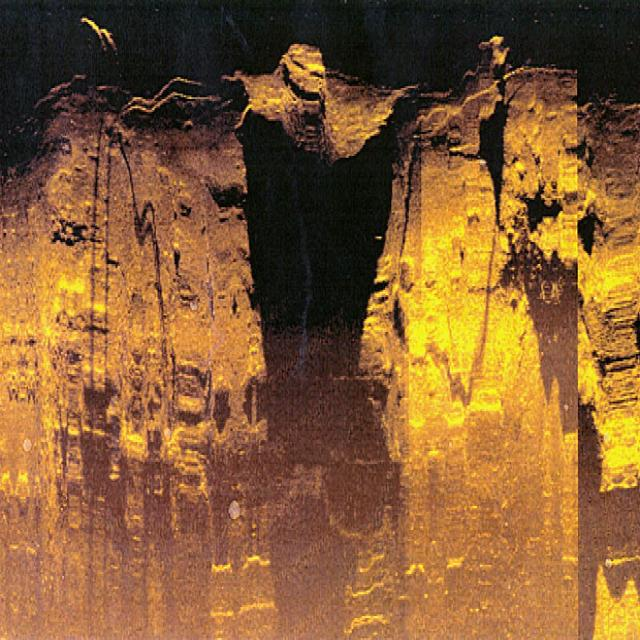other: (227, 24, 413, 192), (514, 160, 574, 339), (465, 16, 512, 167)
